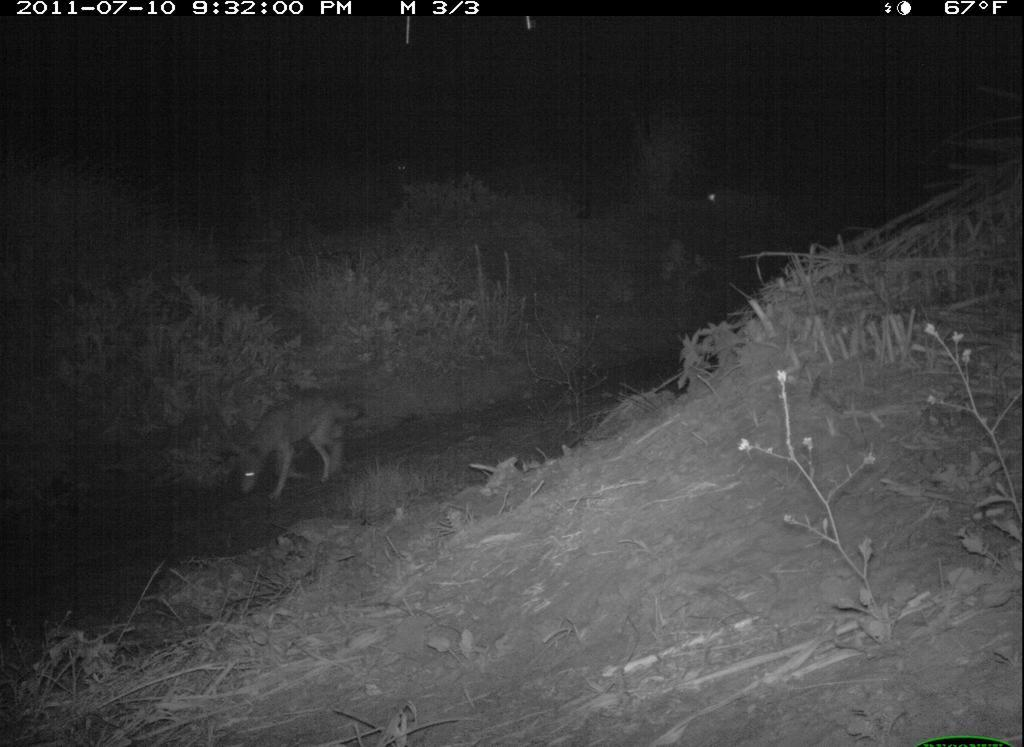coyote: (209, 381, 381, 510)
